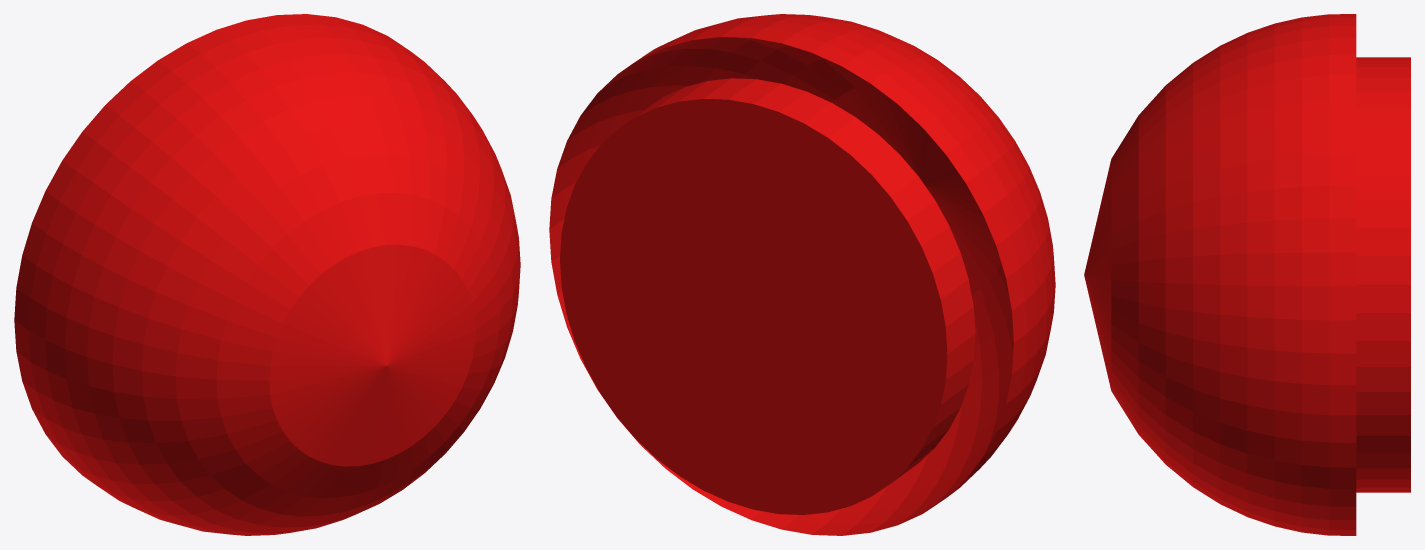
The model's file is Emergency_stop_red.obj.
3 views of the same model, side by side, from view 1: azimuth 30°, elevation 25°; view 2: azimuth 150°, elevation 25°; view 3: azimuth 270°, elevation 25° (orthographic). The views are drawn at different scales.
Bounding box in the file's own units: 0.0959 × 0.0959 × 0.06.
